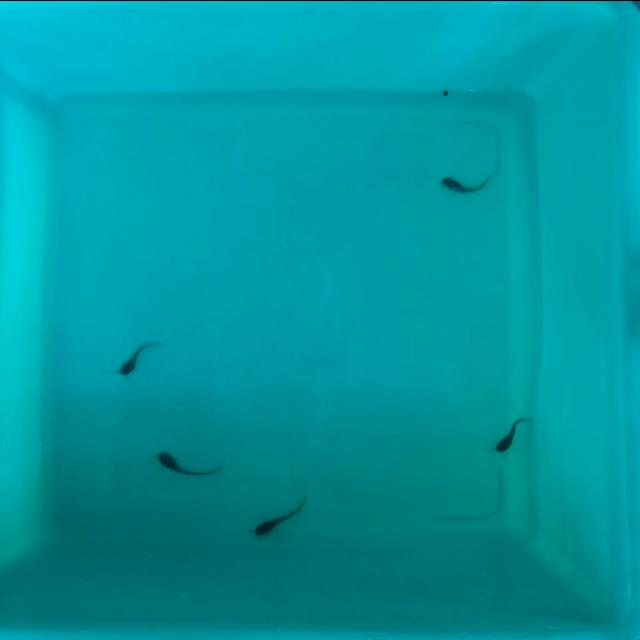lele: (252, 494, 310, 540), (113, 338, 161, 382), (490, 409, 532, 454), (158, 450, 224, 476), (442, 178, 492, 192)
